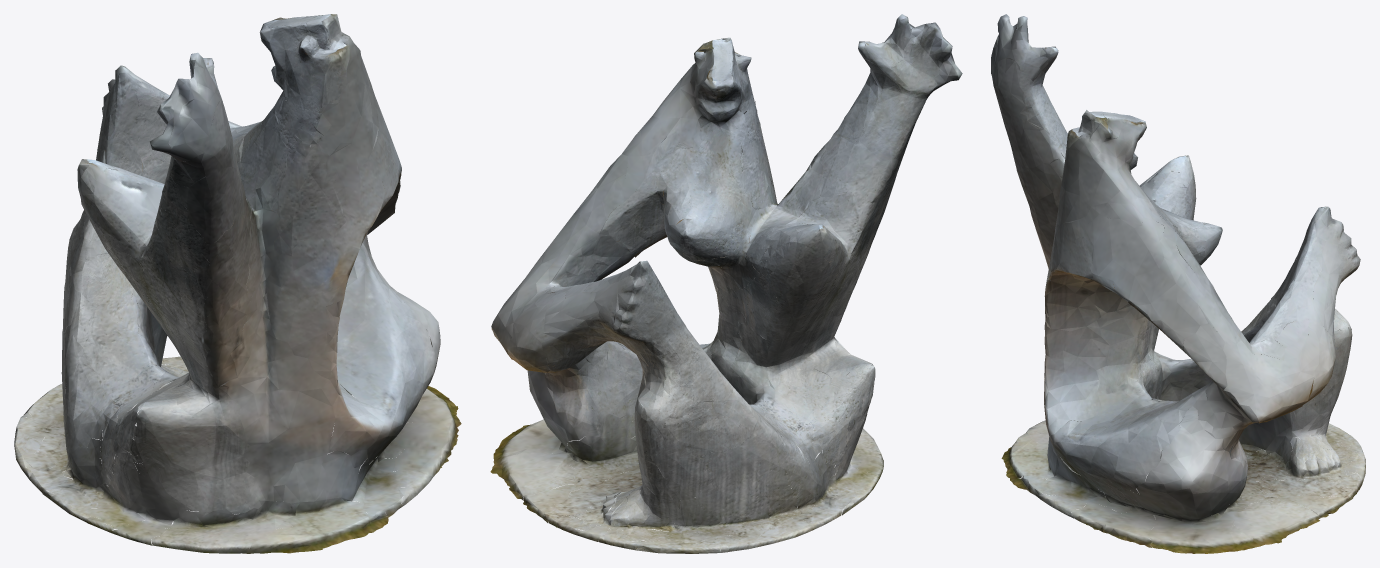
Rendered from klyfurstyttan_an_gras_dec.obj.
3 renders of one model, left to right at view 1: azimuth 30°, elevation 25°; view 2: azimuth 150°, elevation 25°; view 3: azimuth 270°, elevation 25°, orthographic. The views are drawn at different scales.
Parts seen in each view (by area): view 1: Object; view 2: Object; view 3: Object.
Boxes of the visible parts, x1,y1,x2,y2 form: Object: (14, 14, 461, 553); Object: (490, 14, 962, 553); Object: (991, 14, 1365, 553).
Size of the model in its own units: 3.35 by 3.92 by 3.32.
Materials: 1 (1 with a texture image).
